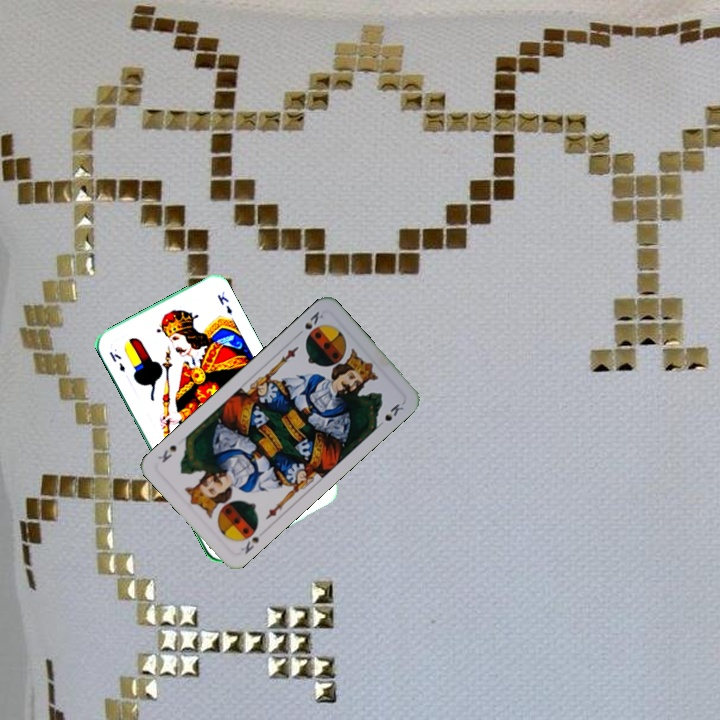EK: (105, 347, 128, 374)
SK: (300, 307, 326, 341), (236, 533, 262, 557)
